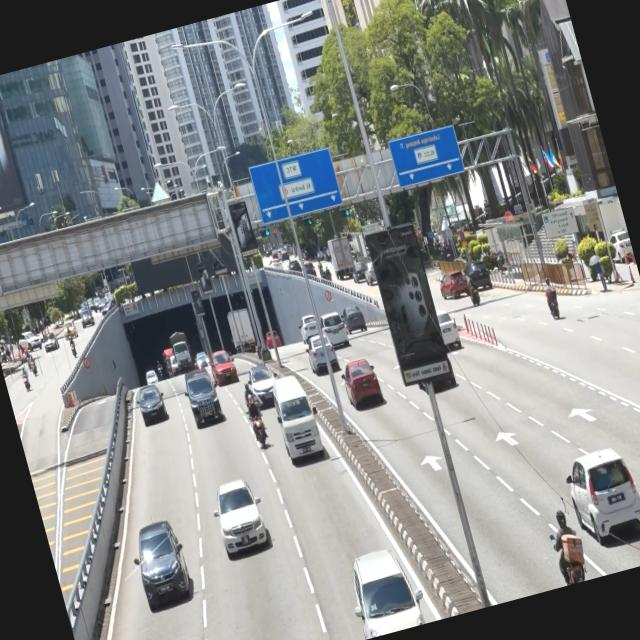Vehicle: (557, 437, 640, 545), (341, 542, 424, 640), (128, 514, 198, 610), (205, 472, 272, 564), (266, 370, 325, 467), (180, 364, 226, 431), (340, 356, 382, 412), (244, 359, 280, 408), (302, 332, 340, 378), (134, 381, 171, 427), (316, 307, 351, 352), (435, 265, 472, 305), (205, 346, 240, 388), (462, 255, 494, 292), (339, 302, 368, 338), (435, 311, 462, 348)
